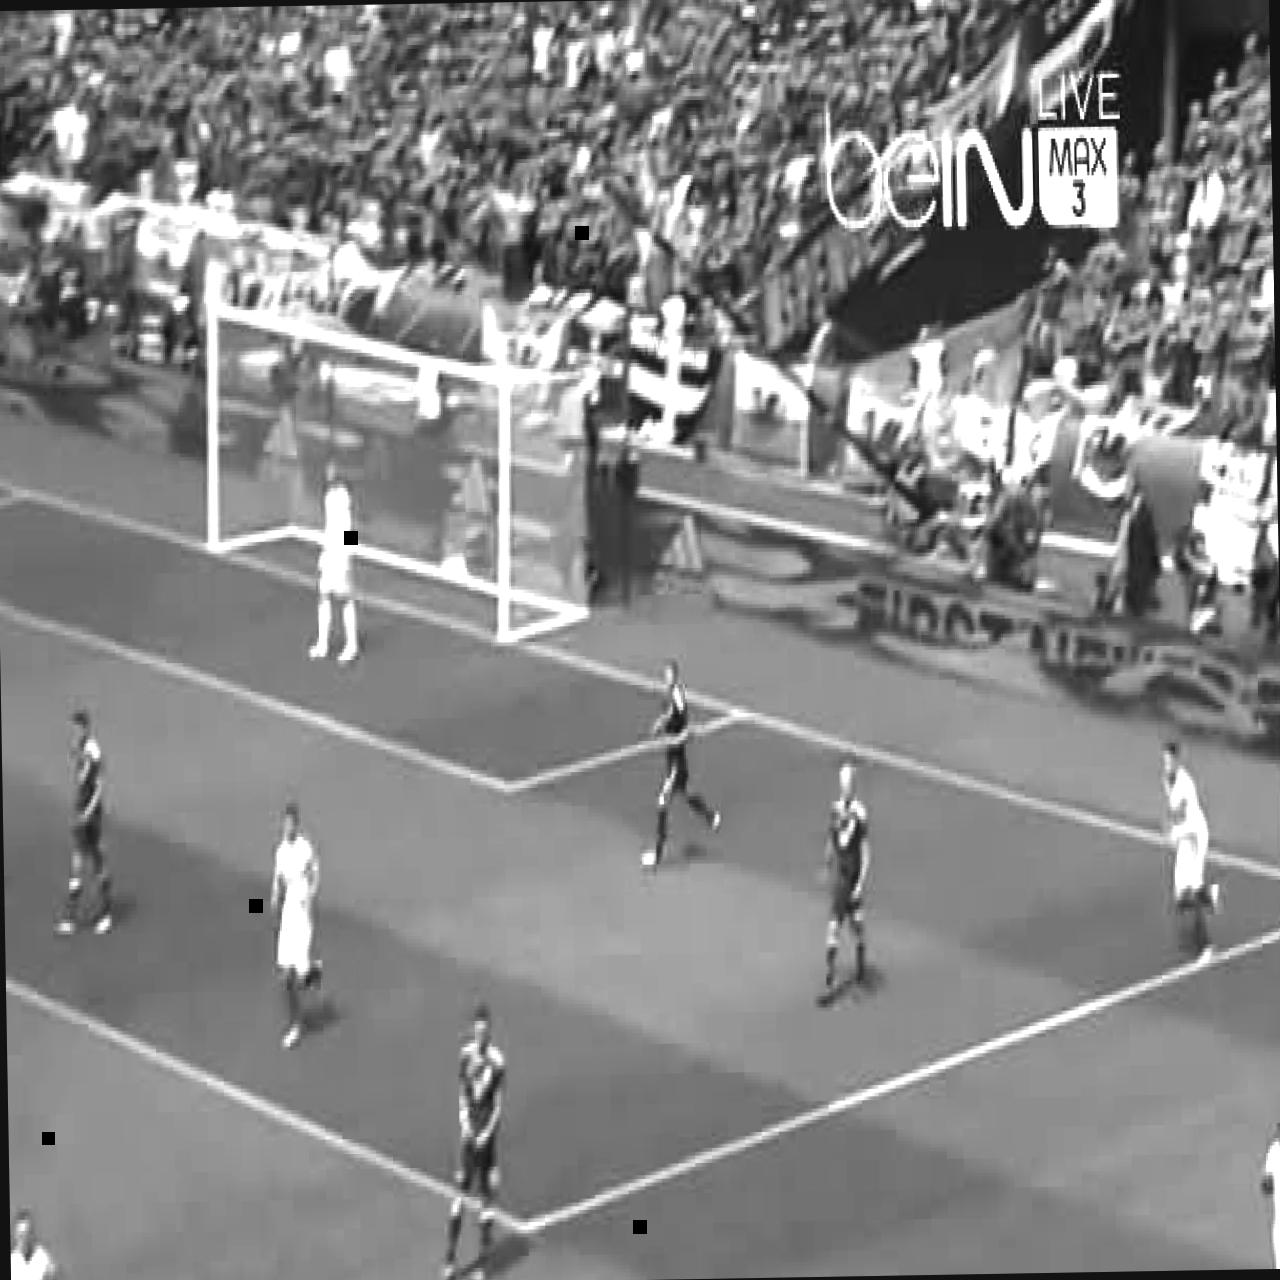football: (440, 1012, 510, 1280), (638, 656, 721, 872), (809, 761, 877, 1012), (269, 808, 326, 1048), (1162, 740, 1221, 961), (54, 708, 108, 932), (302, 457, 358, 665), (1244, 1104, 1280, 1269), (10, 1207, 70, 1280)
